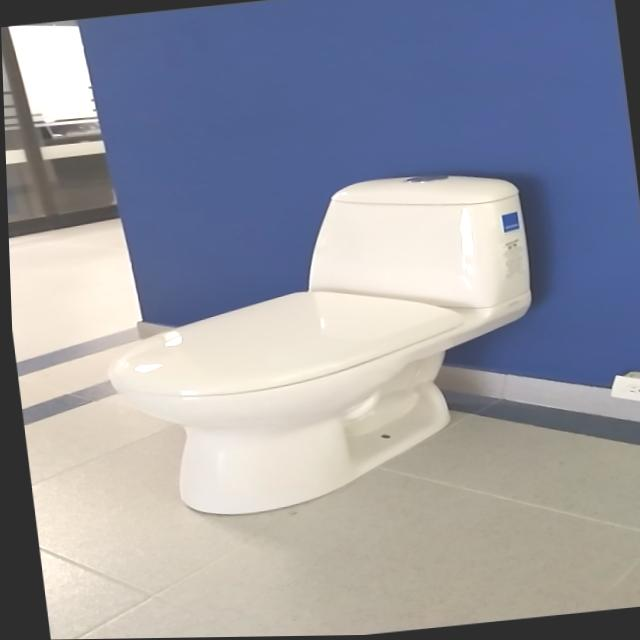toilet: (83, 164, 554, 527)
